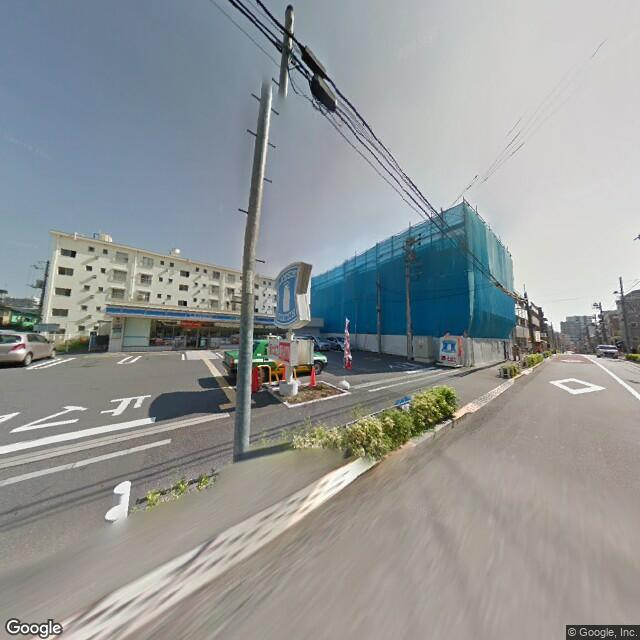lawson: (101, 300, 278, 336), (268, 257, 305, 329), (436, 337, 463, 358)
